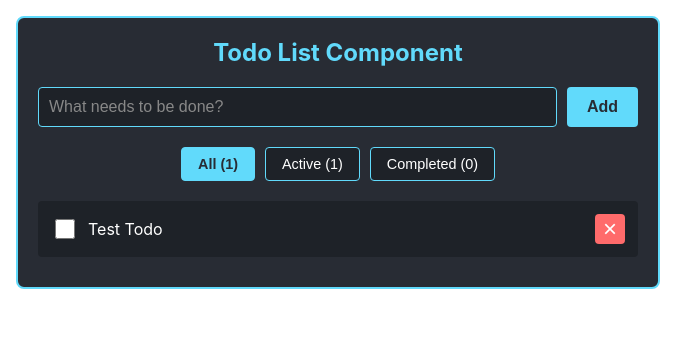
Test: TodoList › deletes a todo
Click the button with test id "delete-todo-1" at [610, 229], box [595,214,625,244]
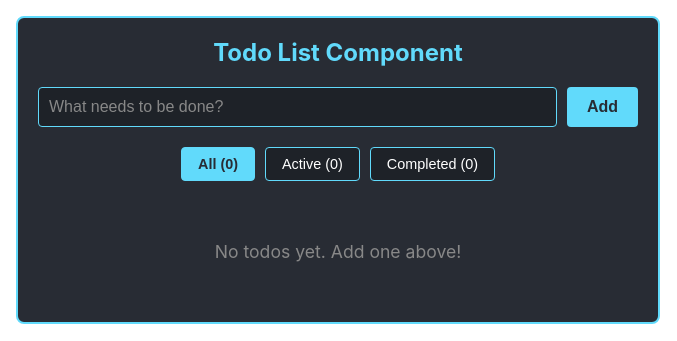
Expected: the list item with test id "1" is gone
